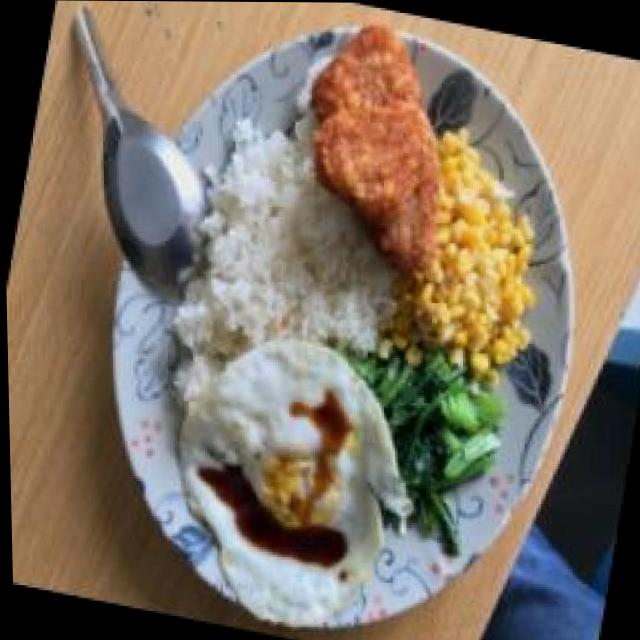fried_eggs: (140, 318, 418, 640)
rice: (187, 136, 396, 352)
triangle_hash_brown: (278, 15, 478, 281)
water_spinach: (353, 347, 515, 561)
